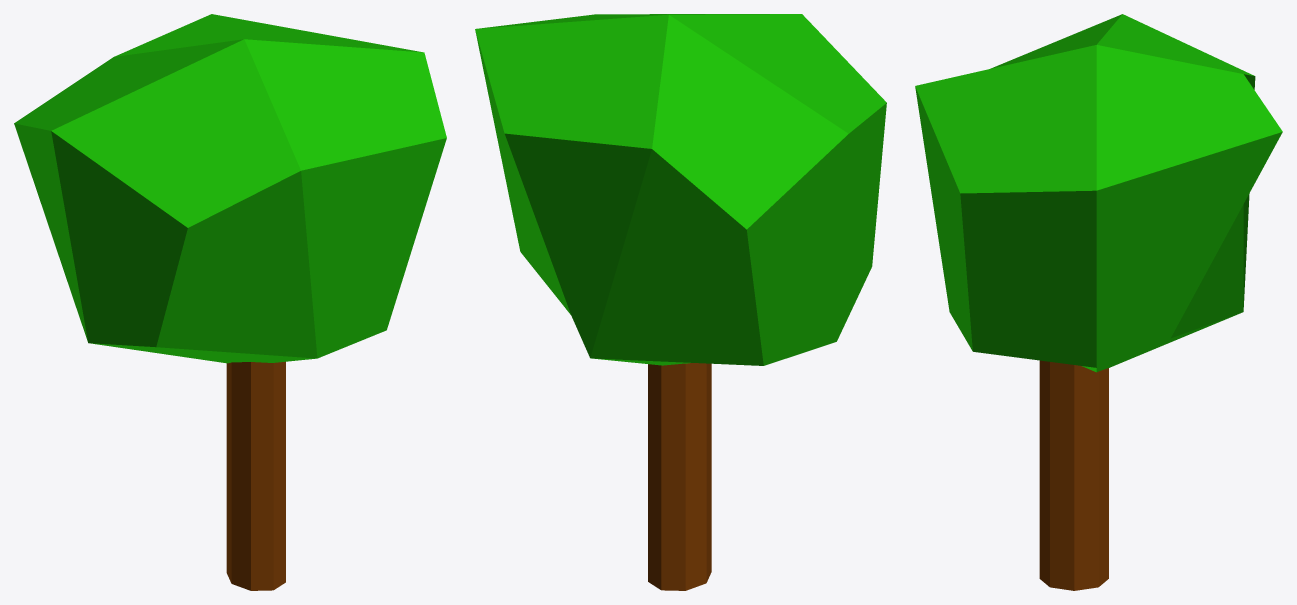
Rendered from tree_01.FBX.
3 renders of one model, left to right at view 1: azimuth 30°, elevation 25°; view 2: azimuth 150°, elevation 25°; view 3: azimuth 270°, elevation 25°, orthographic. The views are drawn at different scales.
Parts seen in each view (by area): view 1: leaves, trunk; view 2: leaves, trunk; view 3: leaves, trunk.
Part boxes in pixels (left/top/right/bottom): leaves: left=14, top=14, right=446, bottom=363; trunk: left=226, top=361, right=285, bottom=590; leaves: left=475, top=14, right=886, bottom=365; trunk: left=648, top=363, right=711, bottom=590; leaves: left=915, top=14, right=1282, bottom=372; trunk: left=1039, top=360, right=1108, bottom=590.
Bounding box in the file's own units: 18.13 × 25.52 × 15.95.
